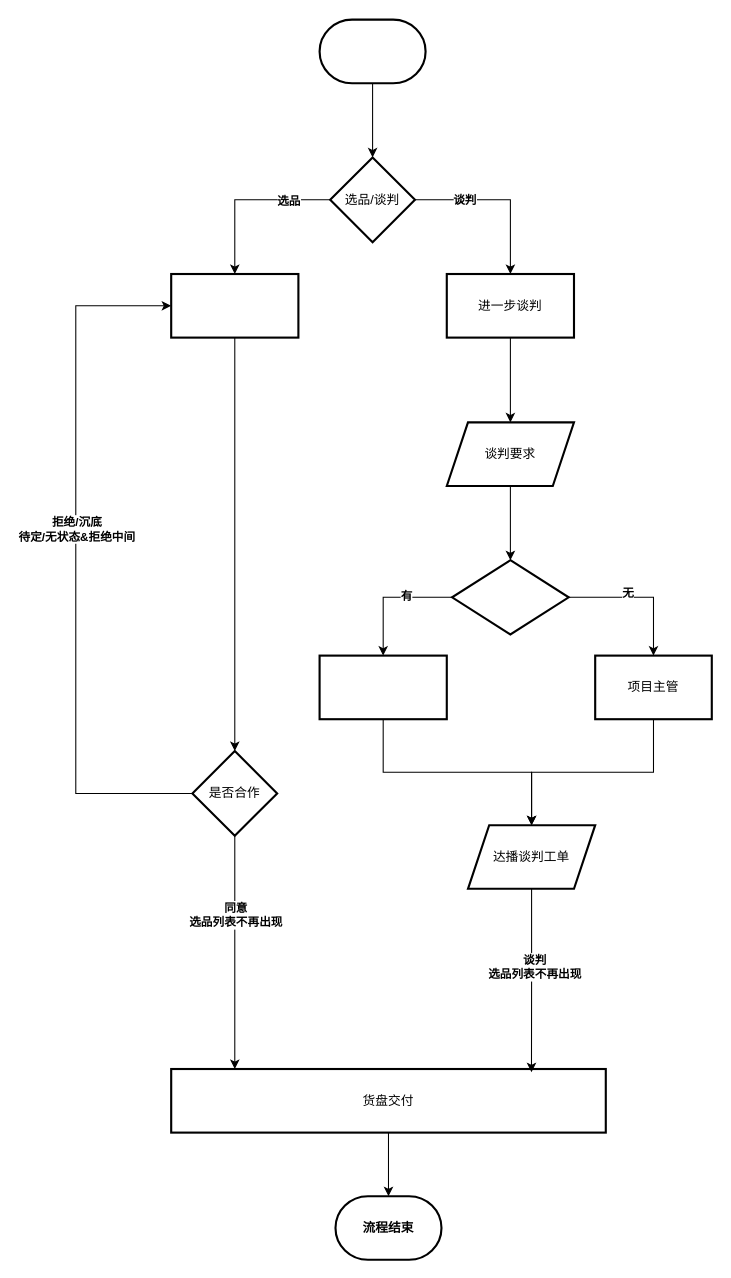
This 731x1278 diagram has some shape labels left out. Here are the shapes that lost their labels. From the top down, the centre of each, then its label:
(372,51): 流程开始
(234,305): 选品列表
(509,597): 有无责任招商
(382,687): 商家
